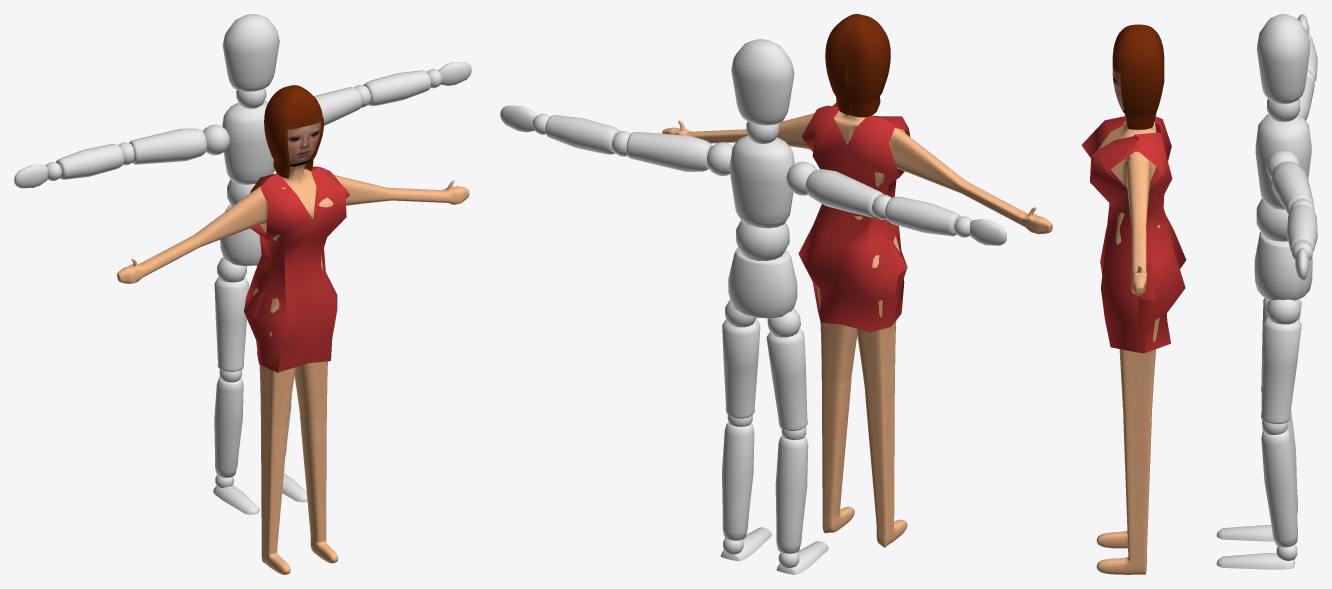
The model's file is Weibsbild.fbx.
The picture shows the model from 3 angles, left to right: view 1: azimuth 30°, elevation 25°; view 2: azimuth 150°, elevation 25°; view 3: azimuth 270°, elevation 25°; orthographic projection. The views are drawn at different scales.
Visible parts, largest first — view 1: Body, Kleid, Kopf, Oberkörper, Rechts_Oberschenkel, Rechts_Schienbein, Rechts_Oberarm, Rechts_Unterarm, Links_Unterarm, Figur, Links_Oberarm, Rechts_Fuß (+3 smaller); view 2: Body, Kleid, Oberkörper, Kopf, Figur, Links_Schienbein, Rechts_Schienbein, Rechts_Oberschenkel, Links_Oberschenkel, Links_Oberarm, Rechts_Oberarm, Rechts_Unterarm (+8 smaller); view 3: Body, Kleid, Kopf, Links_Oberschenkel, Links_Schienbein, Oberkörper, Figur, Links_Oberarm, Links_Unterarm, Links_Fuß, Gelenk, Rechts_Fuß (+5 smaller).
Part boxes in pixels (x1=…): Body: x1=117, y1=85, x2=469, y2=574; Kleid: x1=244, y1=166, x2=349, y2=372; Kopf: x1=222, y1=14, x2=279, y2=91; Oberkörper: x1=222, y1=101, x2=274, y2=184; Rechts_Oberschenkel: x1=214, y1=277, x2=248, y2=371; Rechts_Schienbein: x1=214, y1=376, x2=243, y2=477; Rechts_Oberarm: x1=129, y1=128, x2=207, y2=164; Rechts_Unterarm: x1=56, y1=144, x2=124, y2=179; Links_Unterarm: x1=363, y1=70, x2=430, y2=106; Figur: x1=220, y1=204, x2=261, y2=266; Links_Oberarm: x1=314, y1=87, x2=361, y2=125; Rechts_Fuß: x1=213, y1=485, x2=259, y2=514; Body: x1=662, y1=14, x2=1052, y2=547; Kleid: x1=798, y1=103, x2=910, y2=332; Oberkörper: x1=729, y1=135, x2=794, y2=228; Kopf: x1=731, y1=39, x2=794, y2=125; Figur: x1=728, y1=247, x2=797, y2=318; Links_Schienbein: x1=722, y1=422, x2=754, y2=540; Rechts_Schienbein: x1=775, y1=435, x2=808, y2=553; Rechts_Oberschenkel: x1=766, y1=328, x2=807, y2=431; Links_Oberschenkel: x1=722, y1=319, x2=760, y2=418; Links_Oberarm: x1=626, y1=132, x2=712, y2=171; Rechts_Oberarm: x1=806, y1=169, x2=883, y2=217; Rechts_Unterarm: x1=885, y1=196, x2=960, y2=236; Body: x1=1096, y1=24, x2=1164, y2=574; Kleid: x1=1081, y1=116, x2=1186, y2=353; Kopf: x1=1257, y1=14, x2=1309, y2=104; Links_Oberschenkel: x1=1261, y1=317, x2=1301, y2=424; Links_Schienbein: x1=1261, y1=429, x2=1297, y2=547; Oberkörper: x1=1255, y1=114, x2=1311, y2=209; Figur: x1=1254, y1=232, x2=1312, y2=300; Links_Oberarm: x1=1271, y1=161, x2=1313, y2=214; Links_Unterarm: x1=1287, y1=204, x2=1317, y2=252; Links_Fuß: x1=1216, y1=553, x2=1294, y2=569; Gelenk: x1=1256, y1=198, x2=1288, y2=241; Rechts_Fuß: x1=1216, y1=525, x2=1274, y2=541.
Size of the model in its own units: 610 by 625 by 241.
4 materials, 2 textured.
